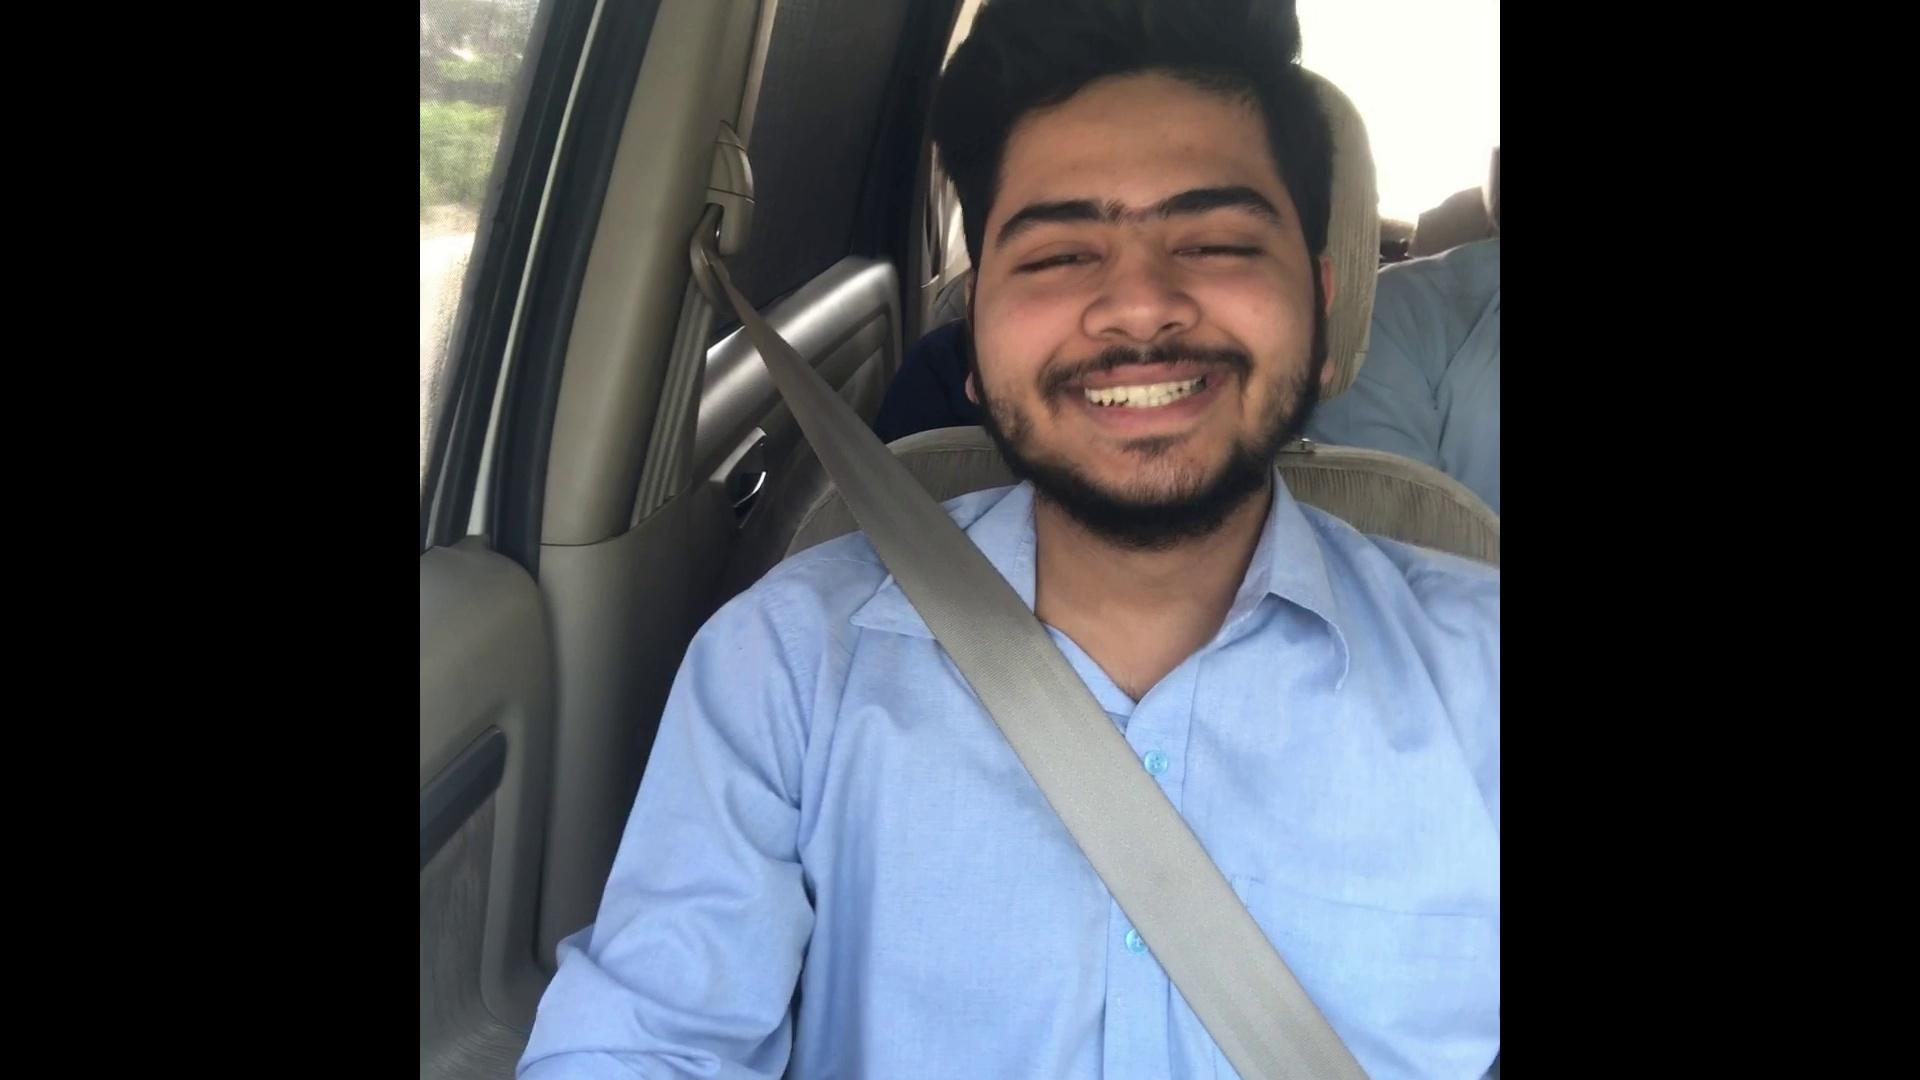Neutral: (913, 102, 1381, 530)
